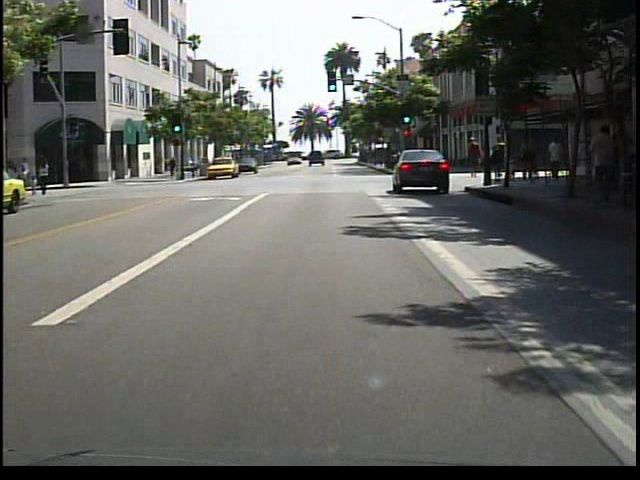person: (37, 159, 59, 200), (466, 136, 484, 185)
